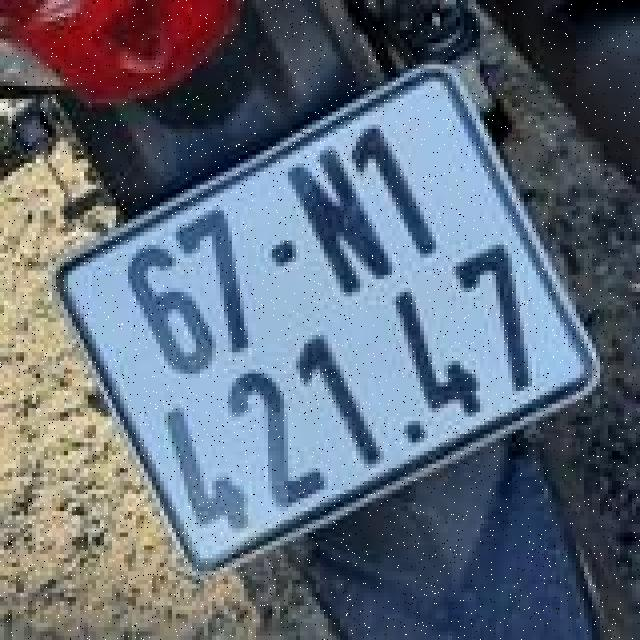1: (271, 322, 402, 487), (336, 113, 458, 277)
2: (211, 352, 340, 520)
4: (379, 270, 501, 438), (145, 395, 268, 561)
6: (109, 229, 231, 393)
7: (439, 228, 564, 406), (167, 198, 282, 371)
N: (274, 142, 405, 311)
